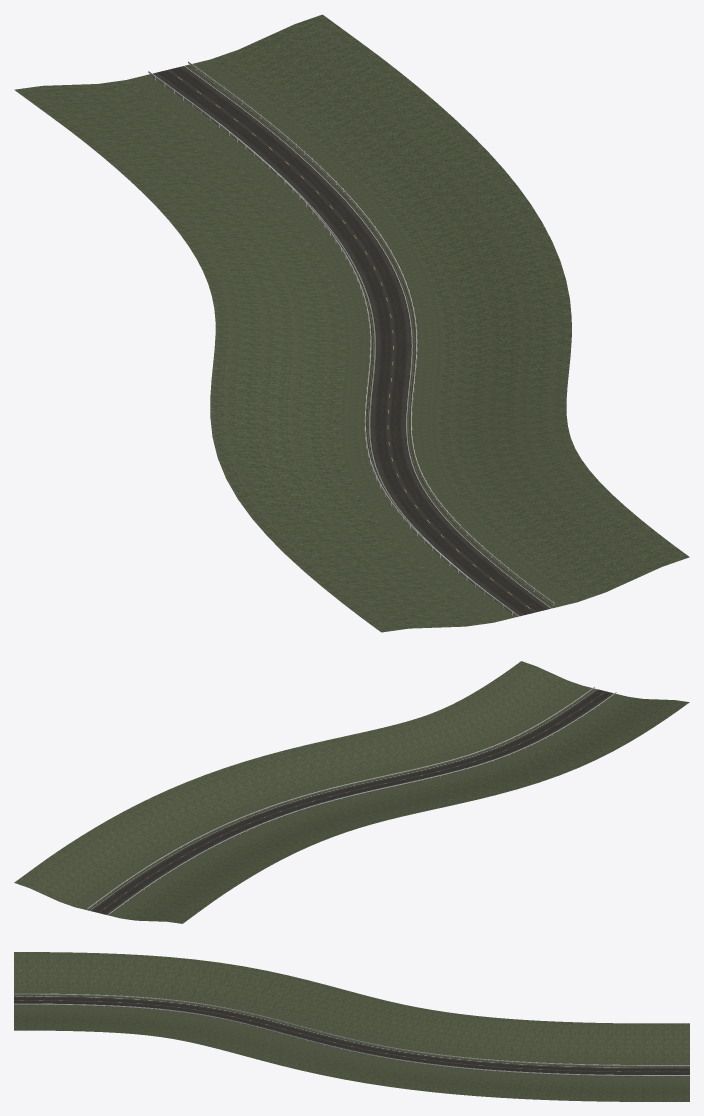
The picture shows the model from 3 angles, top to bottom: view 1: azimuth 30°, elevation 25°; view 2: azimuth 150°, elevation 25°; view 3: azimuth 270°, elevation 25°; orthographic projection. The views are drawn at different scales.
Parts seen in each view (by area): view 1: Grass, HighWay, GuardRail; view 2: Grass, HighWay, GuardRail; view 3: Grass, HighWay, GuardRail.
Part boxes in pixels (x1,y1,x2,y2): Grass: (14, 14, 689, 632); HighWay: (149, 65, 554, 616); GuardRail: (148, 61, 555, 615); Grass: (14, 661, 689, 923); HighWay: (88, 688, 615, 915); GuardRail: (87, 686, 616, 914); Grass: (14, 952, 689, 1101); HighWay: (14, 995, 689, 1076); GuardRail: (14, 993, 689, 1076).
Size of what is drawn, in the model's own units: 210 by 6.05 by 400.
